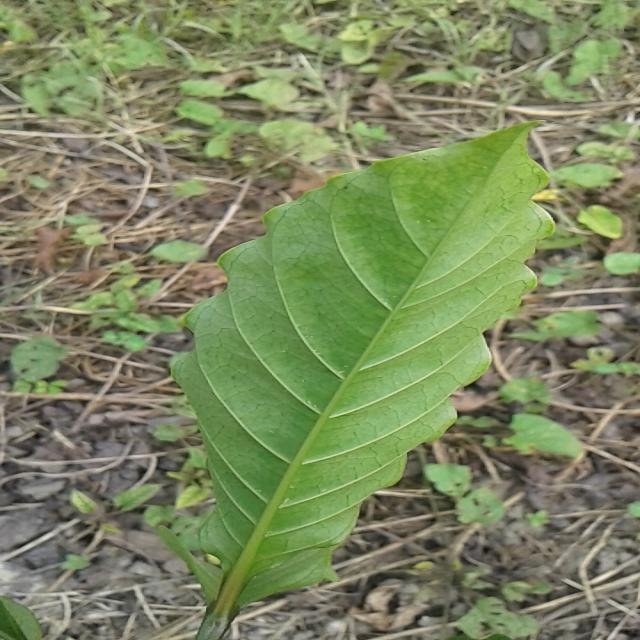Sanas: (146, 124, 556, 640)
